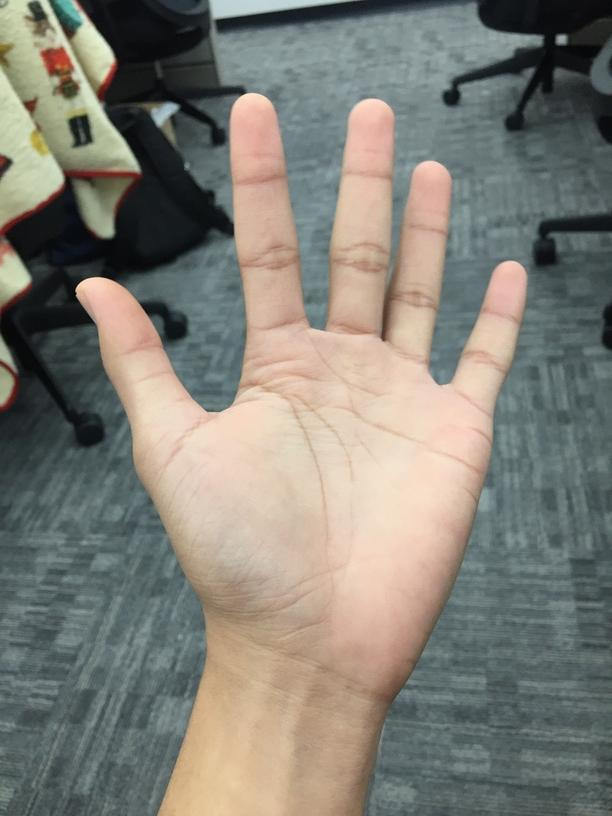hand: (72, 89, 528, 703)
